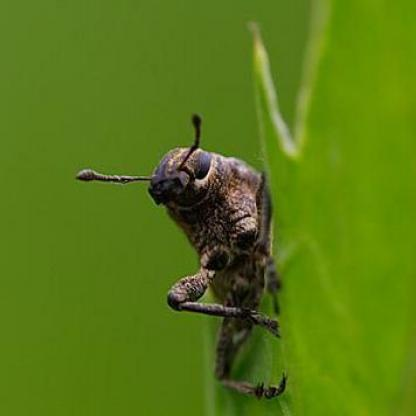rice-bug: (138, 132, 286, 396)
